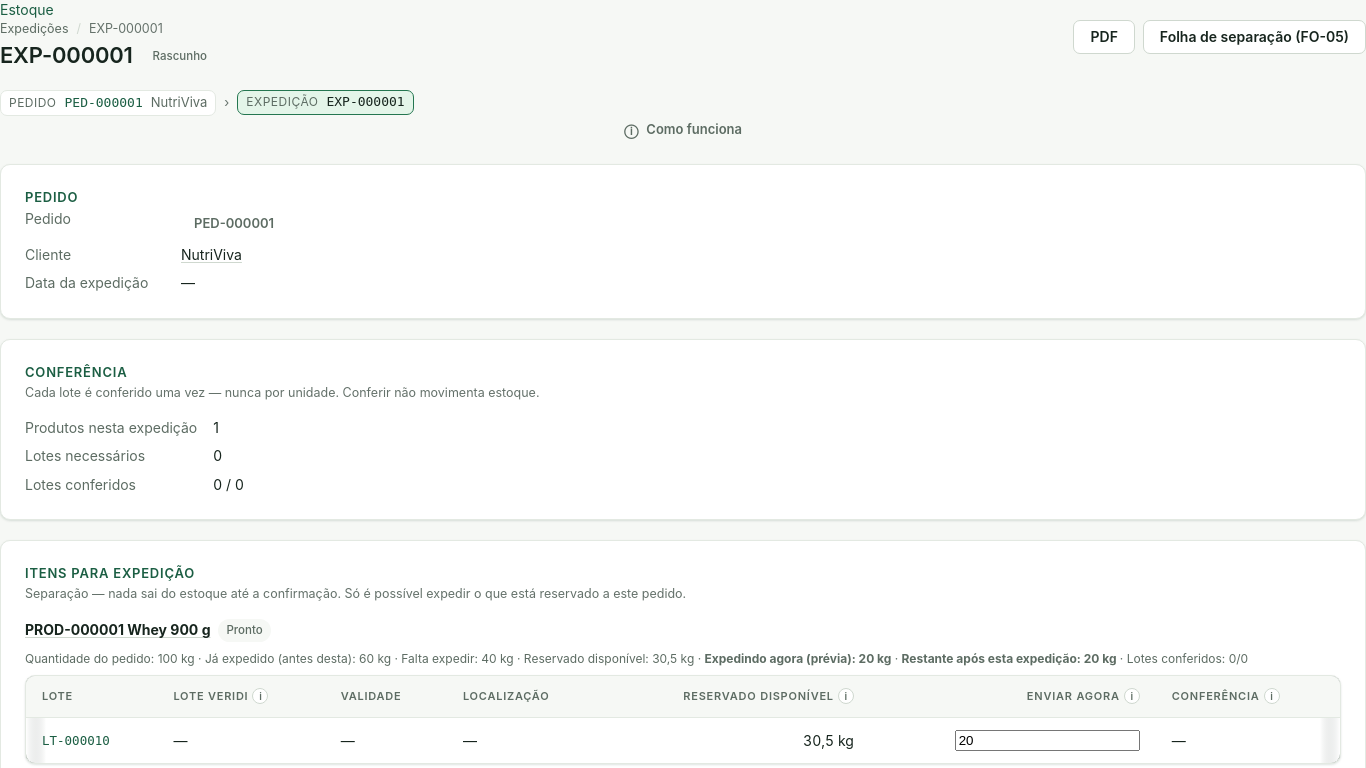
it: Expedição — guarda de alterações não salvas › salvar: a guarda some, o botão volta a descansar, e sai sem perguntar
Expected: the heading "EXP-000001" is shown, [0,42,133,70]
Step 1. Replace the text in the field named "Quantidade do lote LT-000010" with "25" → {"x": 1047, "y": 741}, box [955,730,1140,751]
(page scrolled)
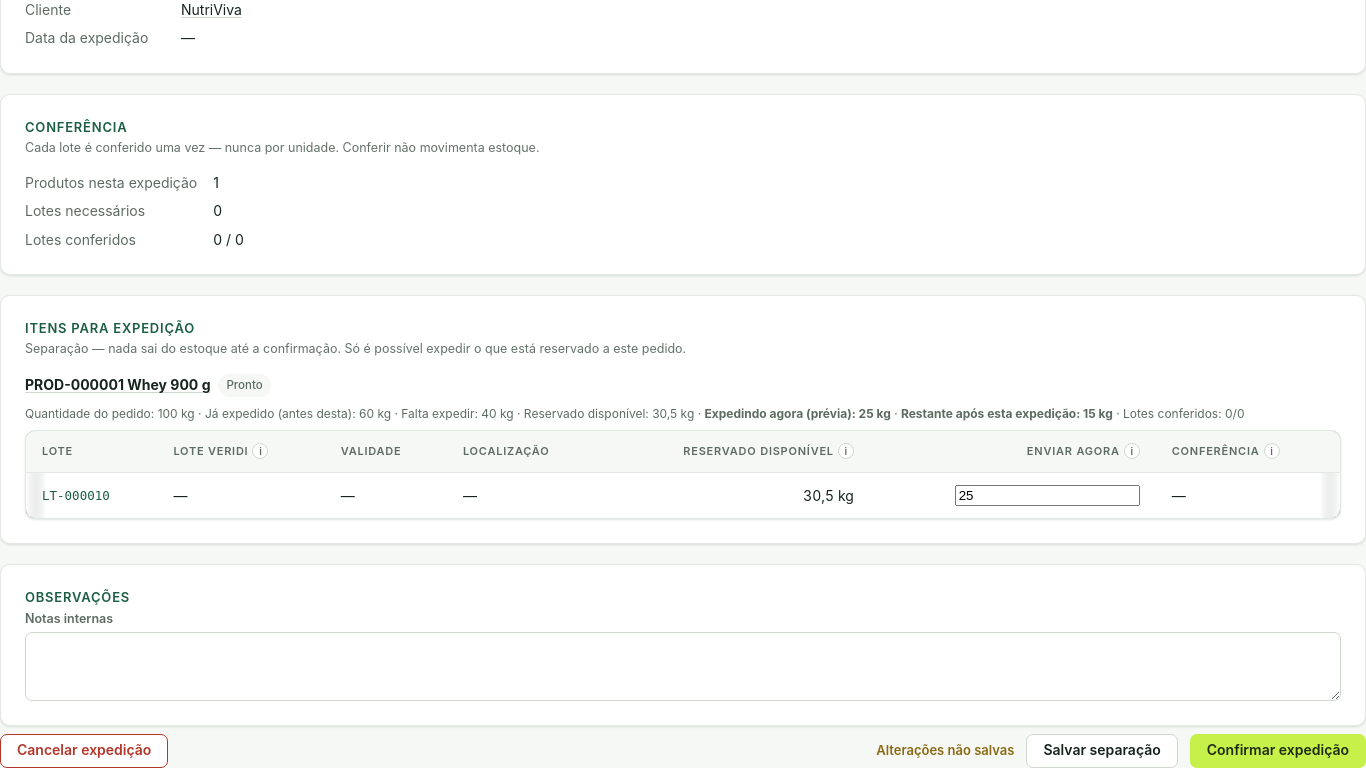
Step 2. Type "Doca 2" into the text box labelled "Notas internas" → {"x": 683, "y": 666}, box [25,632,1341,701]
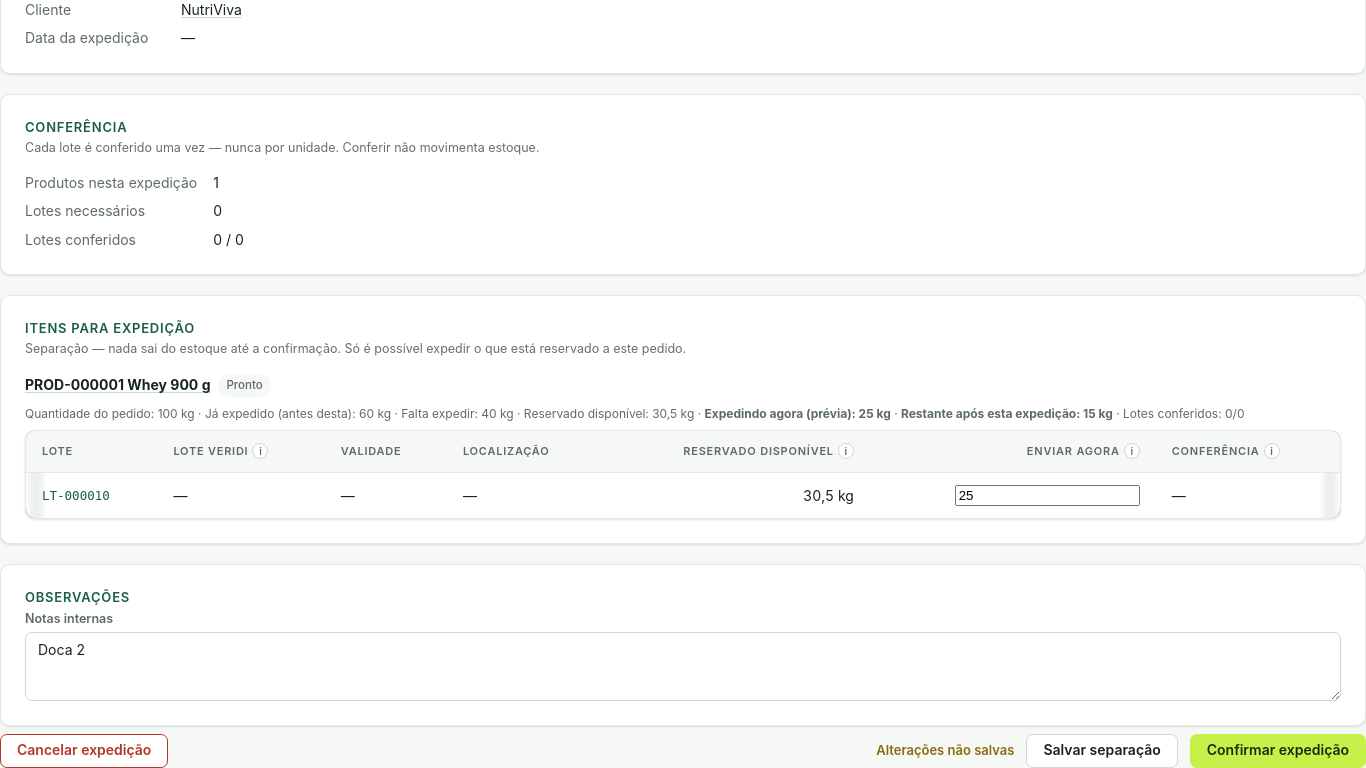
Step 3. Click the button "Salvar separação" → {"x": 1102, "y": 751}, box [1026,734,1178,767]
(page scrolled)
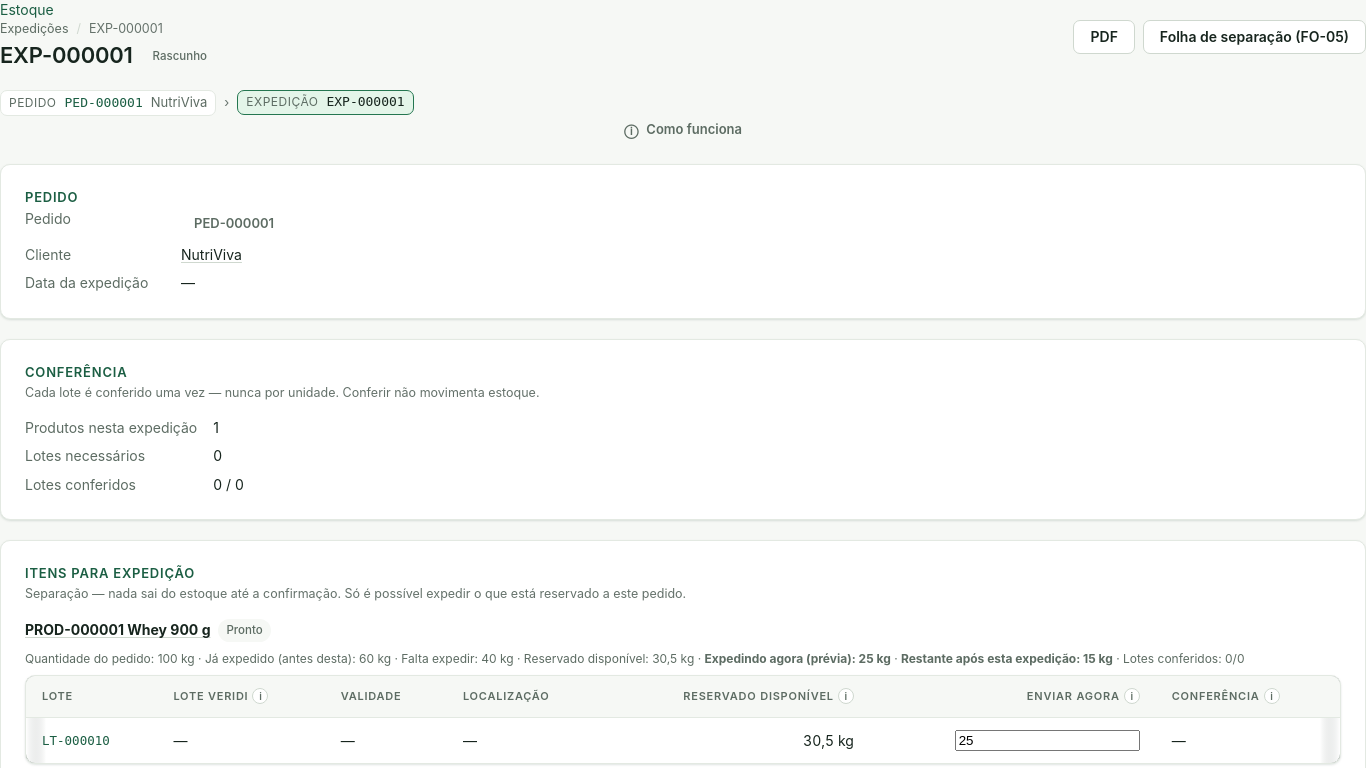
Now the text "Alterações não salvas" is gone
Step 4. Click the link "Estoque" → {"x": 27, "y": 10}, box [0,1,54,18]
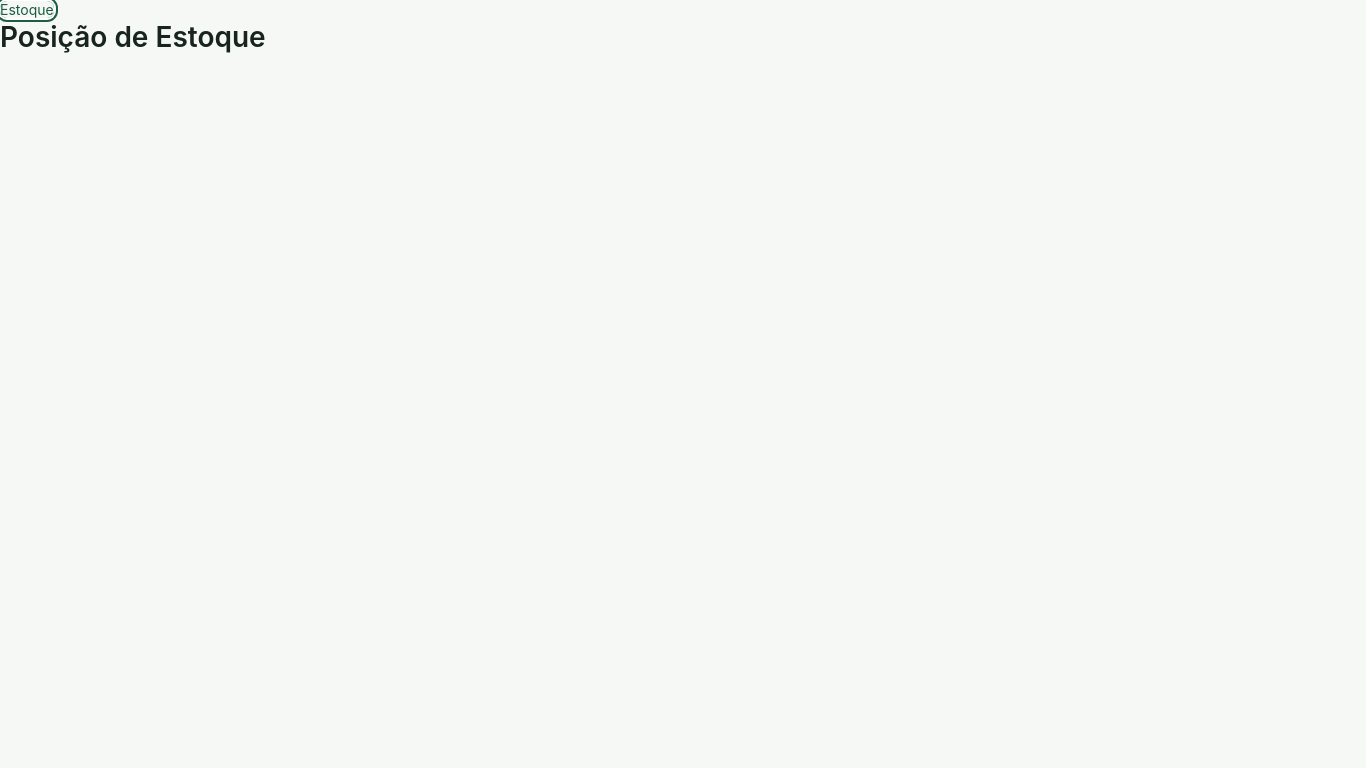
Now the heading "Posição de Estoque" is shown, box [0,20,266,54]
